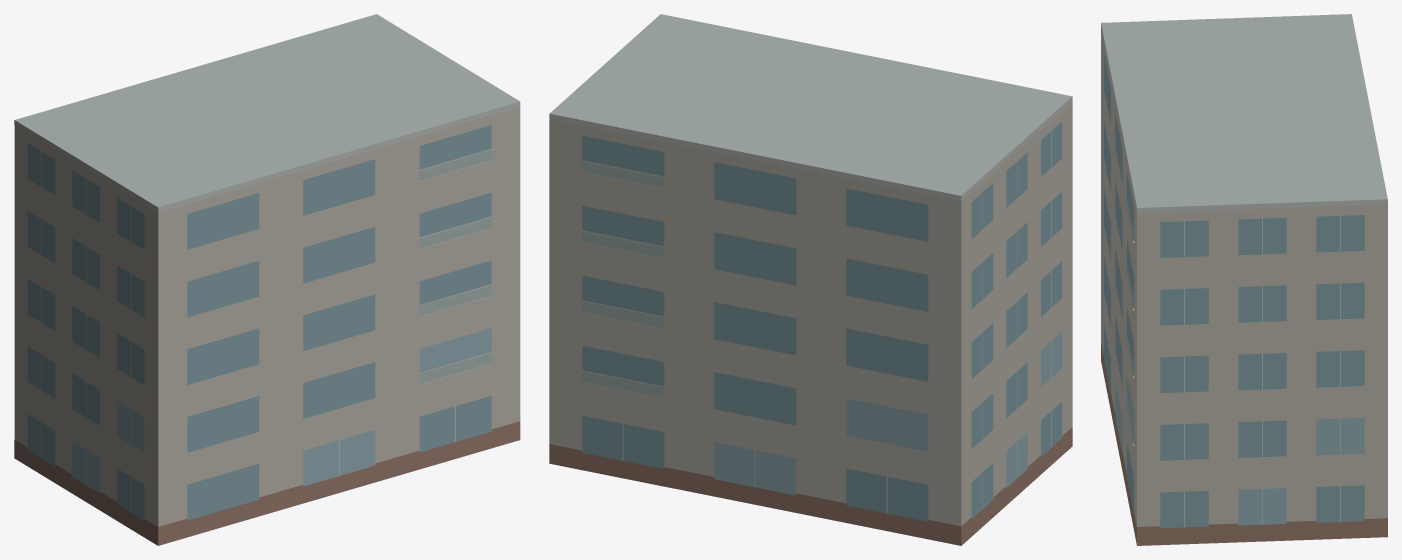
The model's file is survey-upis-32757672.glb.
3 views of the same model, side by side, from view 1: azimuth 30°, elevation 25°; view 2: azimuth 150°, elevation 25°; view 3: azimuth 270°, elevation 25° (orthographic). The views are drawn at different scales.
Parts seen in each view (by area): view 1: survey-upis-32757672.tmp; view 2: survey-upis-32757672.tmp; view 3: survey-upis-32757672.tmp.
Part boxes in pixels (left/top/right/bottom): survey-upis-32757672.tmp: left=14, top=14, right=520, bottom=545; survey-upis-32757672.tmp: left=549, top=14, right=1072, bottom=545; survey-upis-32757672.tmp: left=1101, top=14, right=1387, bottom=545.
Bounding box in the file's own units: 19.22 × 15.6 × 12.01.
